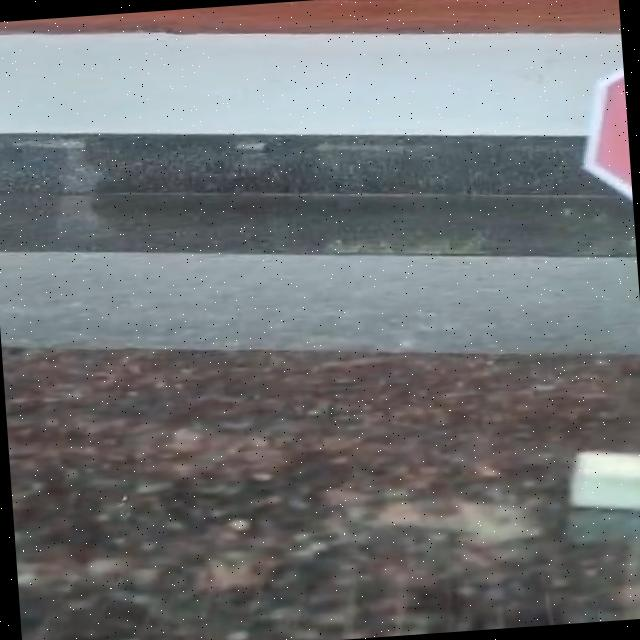Stop: (558, 16, 636, 251)
